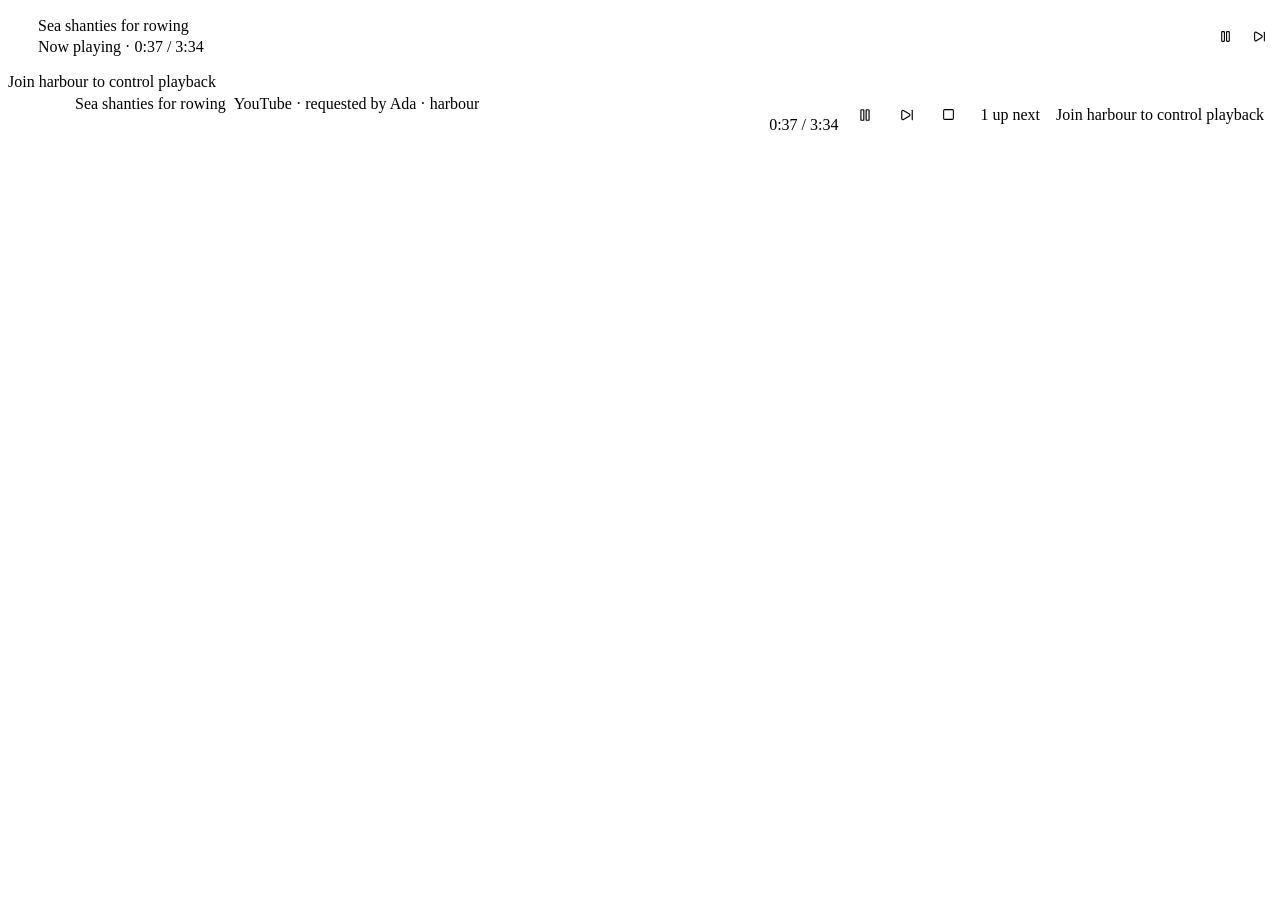
Scenario: NowPlaying toasts (fix round 2) › several players share one live region, and the last one leaving takes it away
This screenshot has width=1280, height=900.
Click the button named "Skip" next to "1 up next" at (906, 115), box [890, 99, 922, 131]
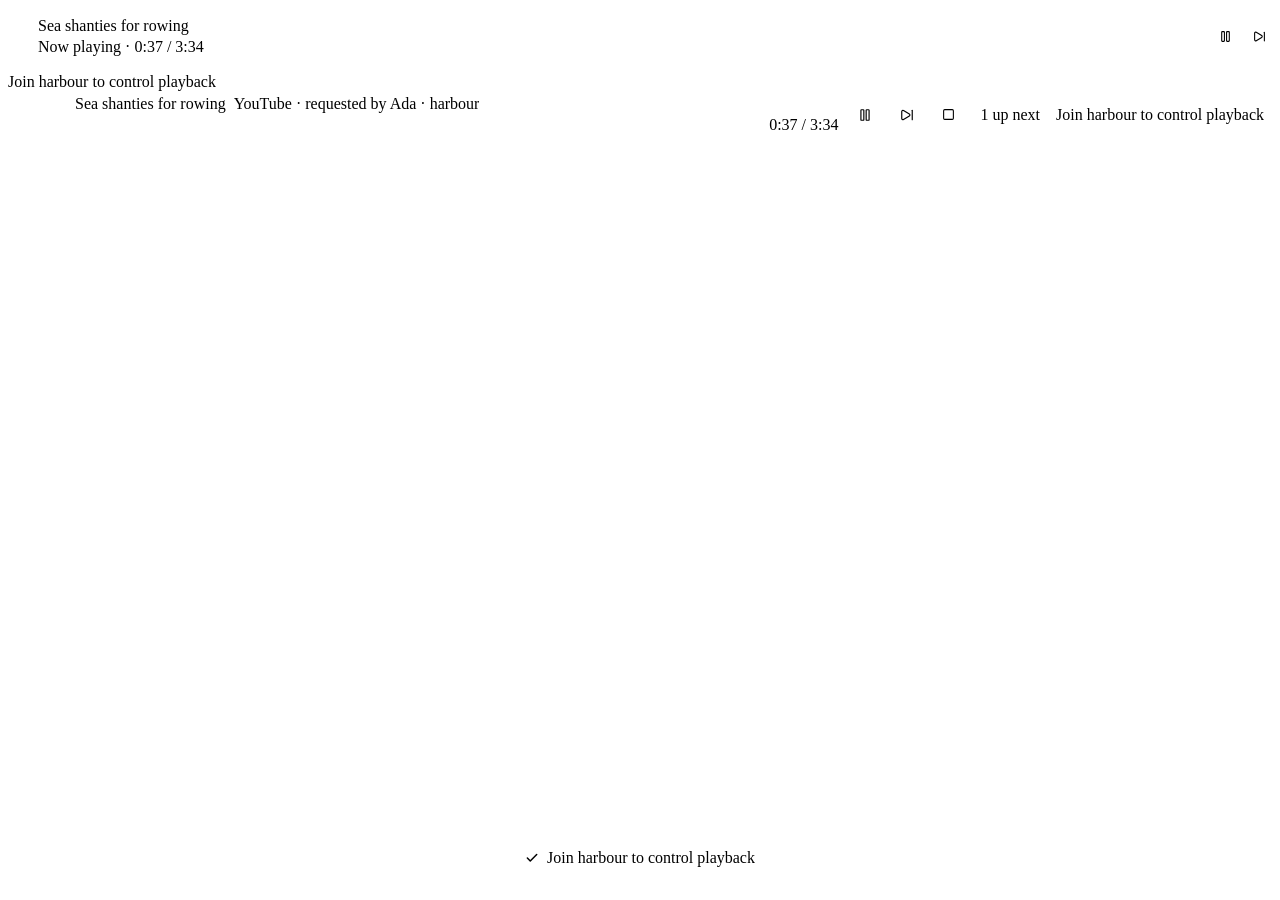
Check: the message reads "Join harbour to control playback", box [547, 849, 755, 866]
